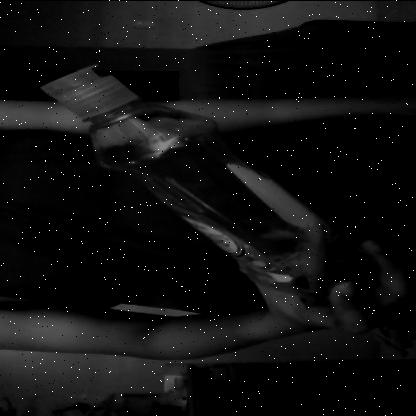Plastic Bottle: (27, 62, 389, 298)
